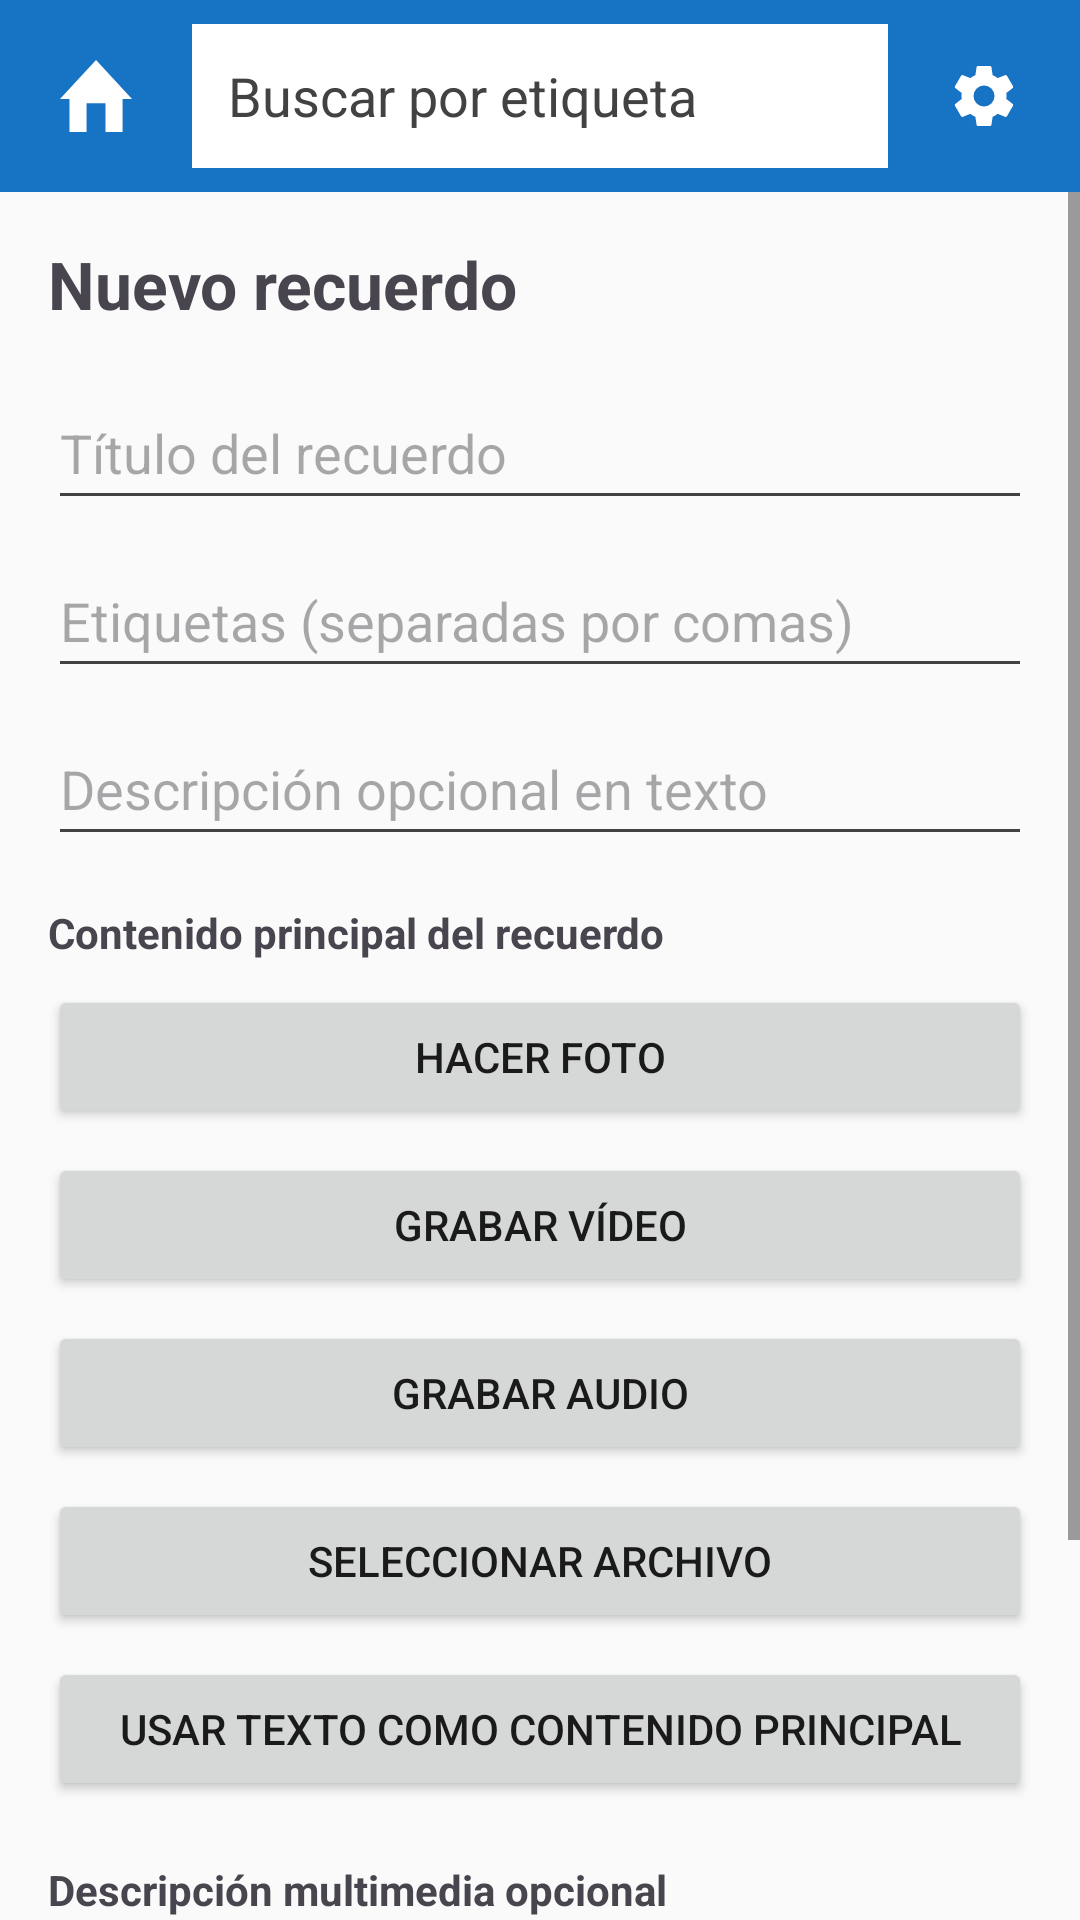

Icon click points for this 1080 x 1920 phone screenshot, format [x,y]:
Ajustes: [983,96]
Inicio: [96,96]
